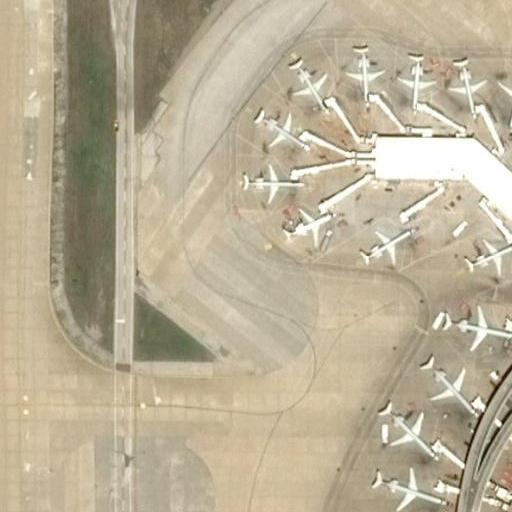Aircraft: (374, 400, 443, 464), (367, 468, 450, 512), (441, 302, 512, 350), (417, 354, 475, 412), (250, 108, 317, 152), (444, 57, 488, 120), (396, 51, 438, 114), (284, 207, 337, 255), (284, 55, 330, 109), (347, 45, 386, 107), (355, 222, 414, 262), (240, 162, 297, 202), (461, 233, 512, 275), (497, 56, 512, 126)
